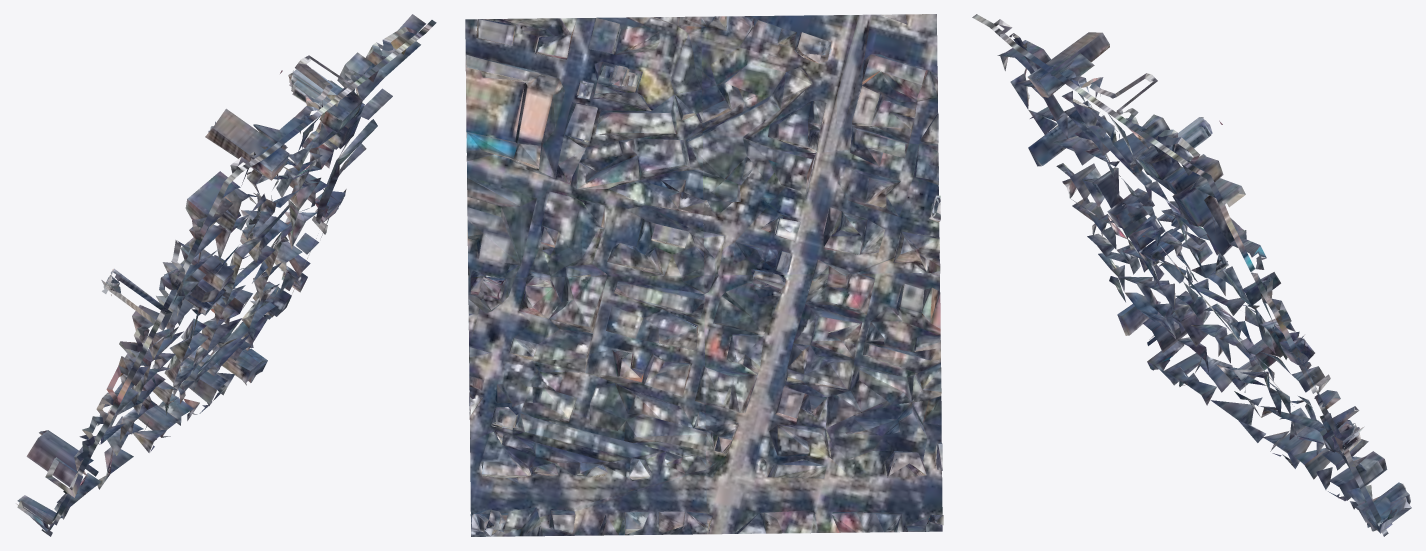
The picture shows the model from 3 angles, left to right: view 1: azimuth 30°, elevation 25°; view 2: azimuth 150°, elevation 25°; view 3: azimuth 270°, elevation 25°; orthographic projection. The views are drawn at different scales.
Bounding box in the file's own units: 634 × 584 × 544.
1 material, 1 textured.
